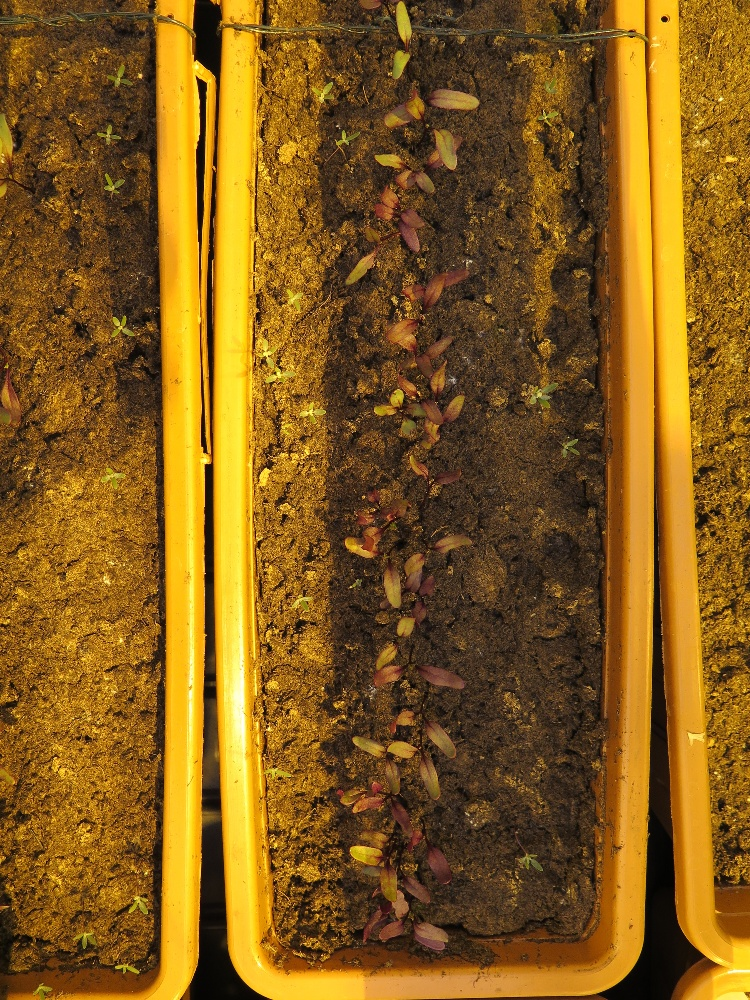crop: (330, 493, 482, 624), (324, 860, 488, 963), (342, 245, 469, 354), (342, 693, 463, 803), (348, 775, 457, 893), (366, 63, 476, 178), (354, 363, 488, 445), (363, 612, 466, 718), (357, 172, 448, 260), (363, 6, 442, 87), (388, 448, 460, 500)
weed: (91, 442, 136, 496), (97, 303, 151, 345), (91, 45, 133, 93), (525, 371, 566, 418), (112, 948, 151, 993), (260, 358, 298, 401), (513, 839, 551, 880), (60, 924, 106, 957), (287, 576, 323, 618), (18, 969, 66, 1000), (553, 427, 583, 475), (530, 101, 568, 137), (253, 327, 283, 371), (538, 69, 570, 107), (323, 125, 359, 158), (289, 399, 330, 427), (257, 758, 294, 788), (124, 884, 157, 915), (276, 286, 304, 322), (103, 166, 124, 203), (94, 118, 118, 145), (313, 80, 338, 103)
